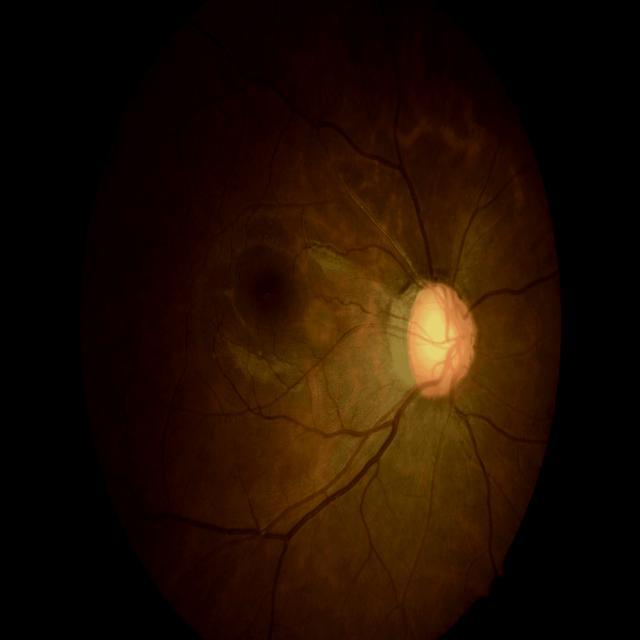cup: (422, 297, 459, 381)
disk: (408, 282, 480, 400)
